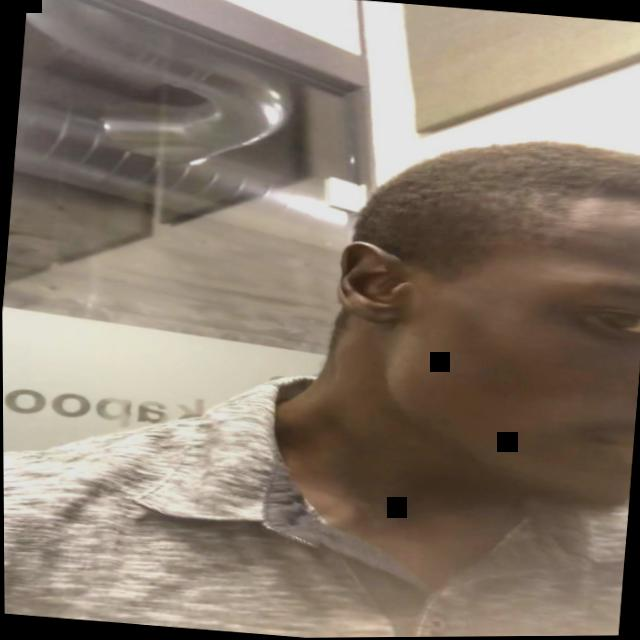NO-Mask: (382, 190, 640, 518)
